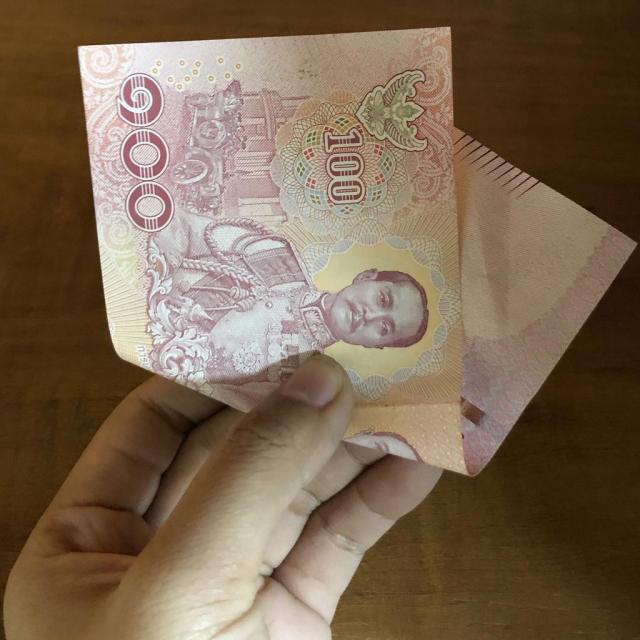THAI100: (76, 28, 636, 478)
